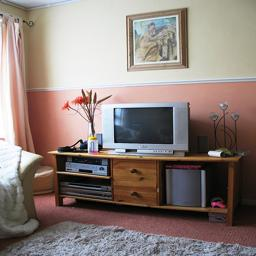bottle: (130, 233, 148, 256)
sofa: (1, 158, 66, 256)
tvmonitor: (147, 199, 256, 256)
